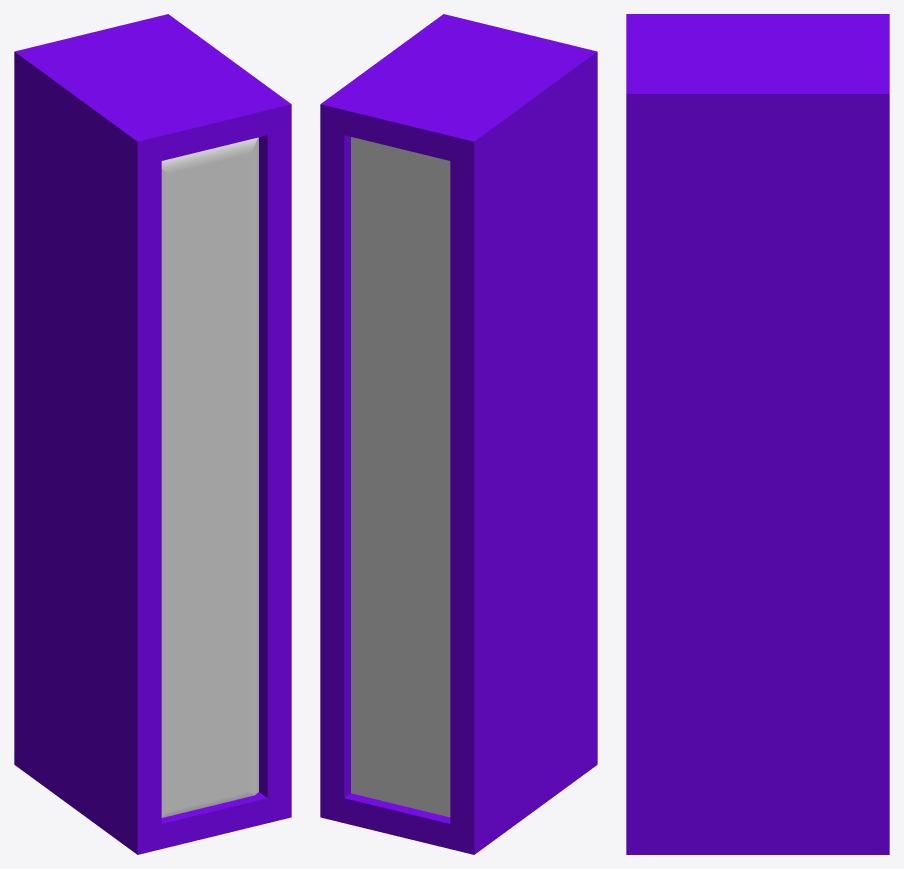
The picture shows the model from 3 angles, left to right: view 1: azimuth 30°, elevation 25°; view 2: azimuth 150°, elevation 25°; view 3: azimuth 270°, elevation 25°; orthographic projection. The views are drawn at different scales.
Visible parts, largest first — view 1: Extrusion Model.000, Extrusion Model; view 2: Extrusion Model.000, Extrusion Model; view 3: Extrusion Model.000.
Part boxes in pixels (x1,y1,x2,y2): Extrusion Model.000: (14, 14, 291, 854); Extrusion Model: (161, 137, 258, 817); Extrusion Model.000: (320, 14, 597, 854); Extrusion Model: (351, 137, 450, 817); Extrusion Model.000: (626, 14, 889, 854).
Size of the model in its own units: 3.44 by 15.21 by 4.77.
